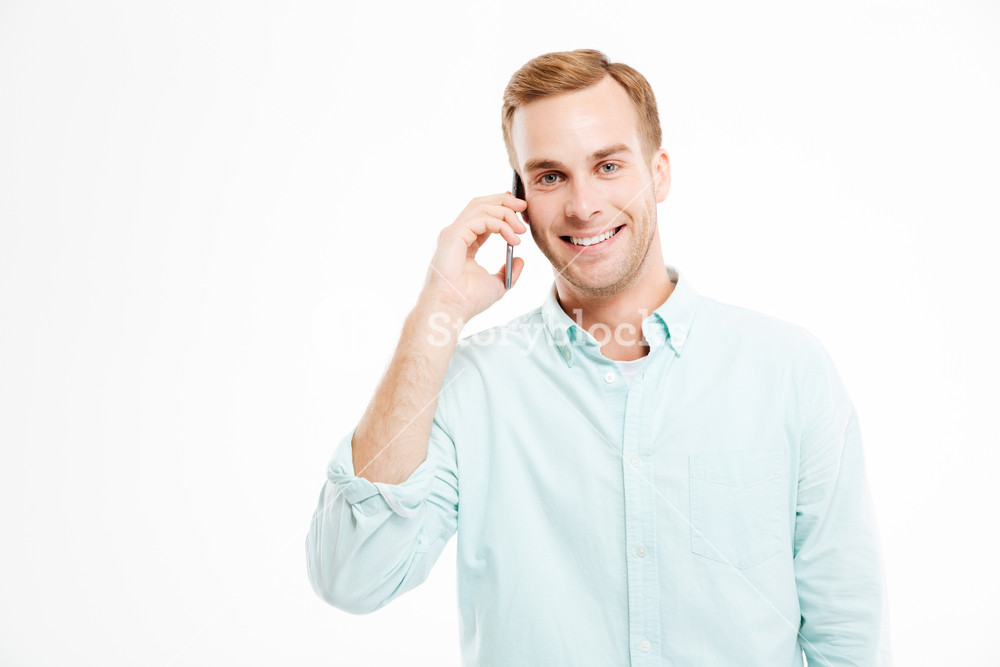phone: (442, 186, 539, 297)
talk: (436, 137, 652, 331)
